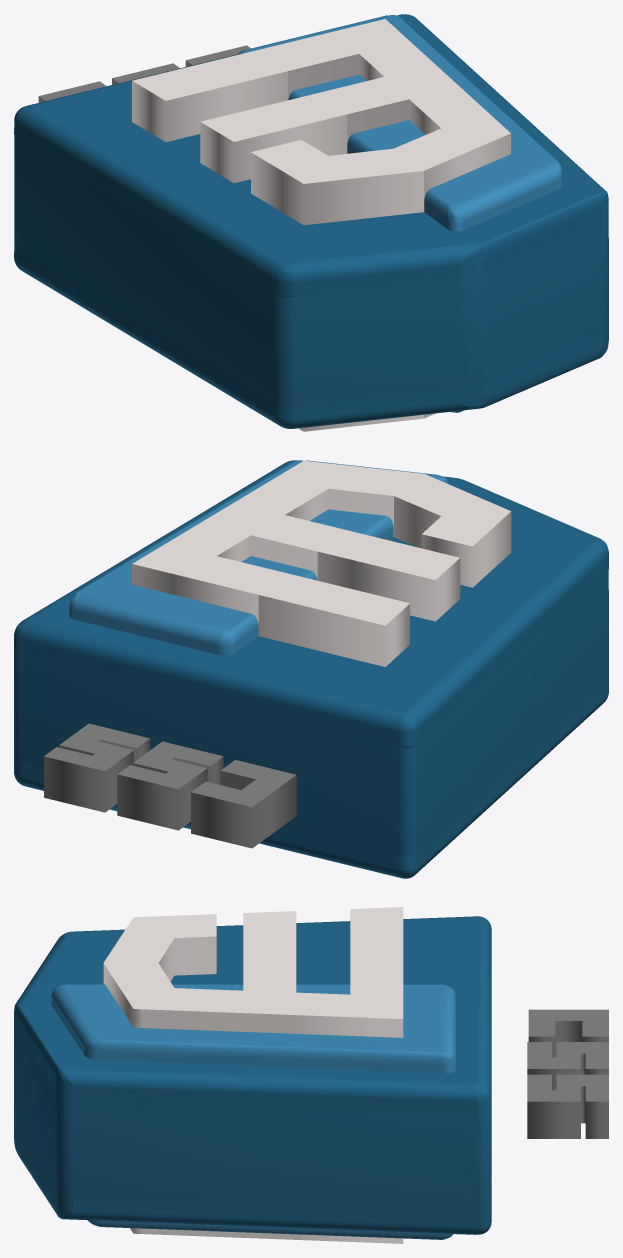
File: css.fbx
3 views of the same model, one above another, from view 1: azimuth 30°, elevation 25°; view 2: azimuth 150°, elevation 25°; view 3: azimuth 270°, elevation 25° (orthographic). The views are drawn at different scales.
Parts seen in each view (by area): view 1: polygon2989, polygon3005, polygon2991, polygon2997, polygon2995, polygon2993; view 2: polygon2989, polygon3005, polygon2991, polygon2995, polygon2997, polygon2993, path2999, path3001, path3003; view 3: polygon2989, polygon2991, polygon3005, polygon2997, path3003, polygon2995, polygon2993, path2999, path3001.
Boxes of the visible parts, x1=… form: polygon2989: x1=14, y1=14, x2=608, y2=428; polygon3005: x1=259, y1=19, x2=510, y2=418; polygon2991: x1=236, y1=15, x2=562, y2=412; polygon2997: x1=251, y1=140, x2=424, y2=431; polygon2995: x1=132, y1=50, x2=287, y2=141; polygon2993: x1=200, y1=93, x2=347, y2=183; polygon2989: x1=14, y1=460, x2=608, y2=878; polygon3005: x1=132, y1=460, x2=423, y2=624; polygon2991: x1=69, y1=460, x2=448, y2=829; polygon2995: x1=258, y1=573, x2=409, y2=666; polygon2997: x1=394, y1=474, x2=511, y2=587; polygon2993: x1=317, y1=530, x2=460, y2=621; path2999: x1=191, y1=760, x2=296, y2=848; path3001: x1=117, y1=741, x2=223, y2=830; path3003: x1=44, y1=723, x2=150, y2=812; polygon2989: x1=14, y1=916, x2=491, y2=1234; polygon2991: x1=51, y1=984, x2=456, y2=1239; polygon3005: x1=103, y1=963, x2=403, y2=1243; polygon2997: x1=103, y1=914, x2=216, y2=983; path3003: x1=527, y1=1074, x2=608, y2=1138; polygon2995: x1=350, y1=907, x2=403, y2=963; polygon2993: x1=243, y1=911, x2=296, y2=963; path2999: x1=528, y1=1009, x2=608, y2=1057; path3001: x1=527, y1=1042, x2=608, y2=1090.
Bounding box in the file's own units: 69.61 × 41.03 × 98.43.
